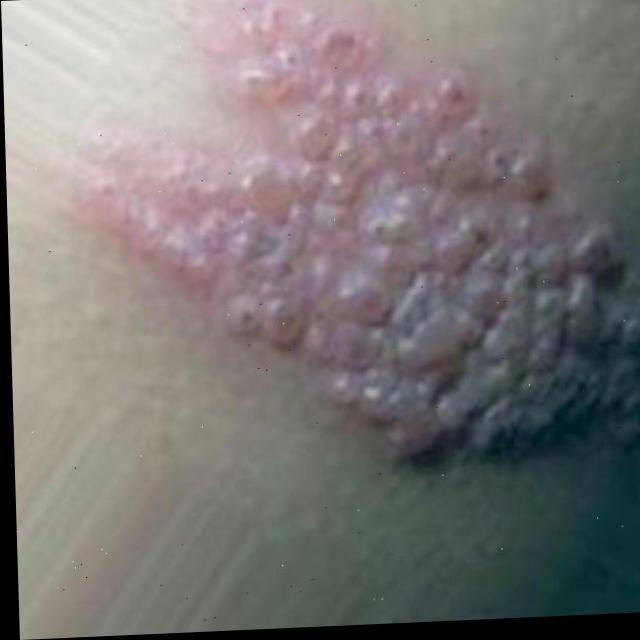Shingles: (92, 0, 640, 484)
